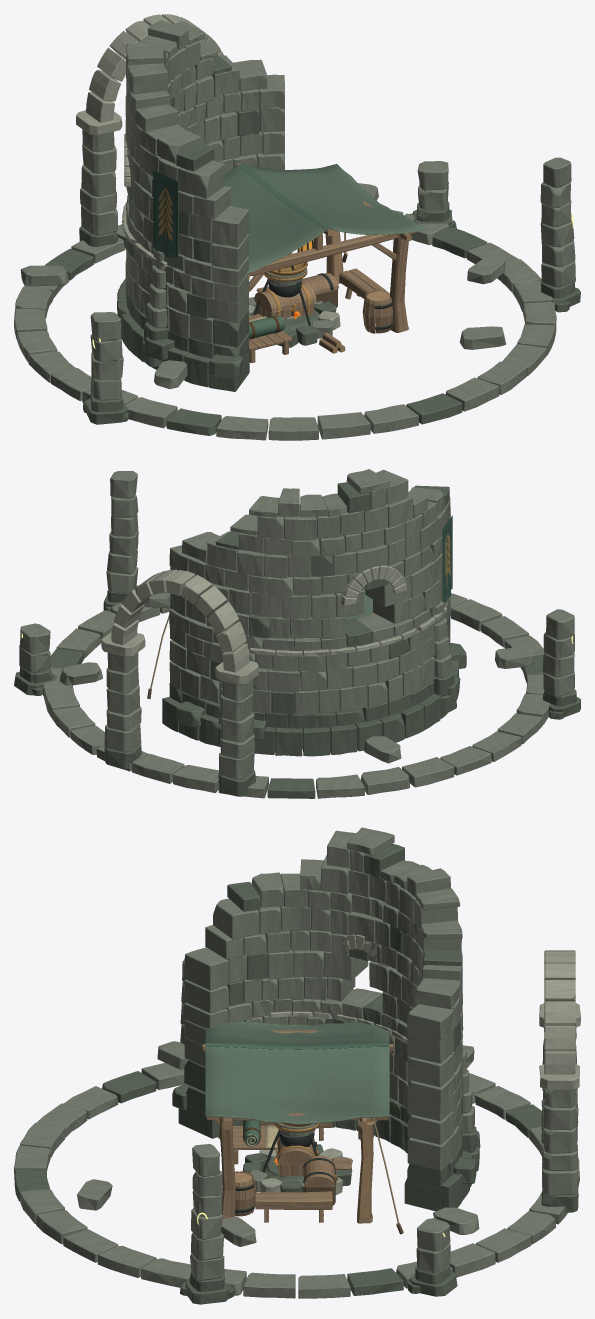
Rendered from architecture-standard-r9.glb.
3 views of the same model, one above another, from view 1: azimuth 30°, elevation 25°; view 2: azimuth 150°, elevation 25°; view 3: azimuth 270°, elevation 25° (orthographic). The views are drawn at different scales.
Parts seen in each view (by area): view 1: watchtower_r8_mesh, moonSanctum_r8_mesh, campShelter_r8_mesh, hearth_r8_mesh, relicStand_r8_mesh, chestLid_r8_mesh; view 2: watchtower_r8_mesh, moonSanctum_r8_mesh, campShelter_r8_mesh; view 3: watchtower_r8_mesh, moonSanctum_r8_mesh, campShelter_r8_mesh, hearth_r8_mesh, relicStand_r8_mesh, chestLid_r8_mesh.
Part boxes in pixels (x1=…): watchtower_r8_mesh: x1=20, y1=20, x2=505, y2=391; moonSanctum_r8_mesh: x1=14, y1=14, x2=580, y2=440; campShelter_r8_mesh: x1=224, y1=163, x2=424, y2=362; hearth_r8_mesh: x1=249, y1=253, x2=387, y2=347; relicStand_r8_mesh: x1=250, y1=252, x2=319, y2=331; chestLid_r8_mesh: x1=254, y1=281, x2=316, y2=312; watchtower_r8_mesh: x1=59, y1=469, x2=534, y2=763; moonSanctum_r8_mesh: x1=14, y1=471, x2=580, y2=798; campShelter_r8_mesh: x1=147, y1=589, x2=375, y2=699; watchtower_r8_mesh: x1=77, y1=827, x2=480, y2=1246; moonSanctum_r8_mesh: x1=14, y1=950, x2=580, y2=1304; campShelter_r8_mesh: x1=202, y1=1021, x2=403, y2=1234; hearth_r8_mesh: x1=242, y1=1121, x2=352, y2=1222; relicStand_r8_mesh: x1=260, y1=1122, x2=319, y2=1184; chestLid_r8_mesh: x1=276, y1=1135, x2=316, y2=1163.
Size of the model in its own units: 14.11 by 7.56 by 13.47.
Materials: 4 (4 with a texture image).
